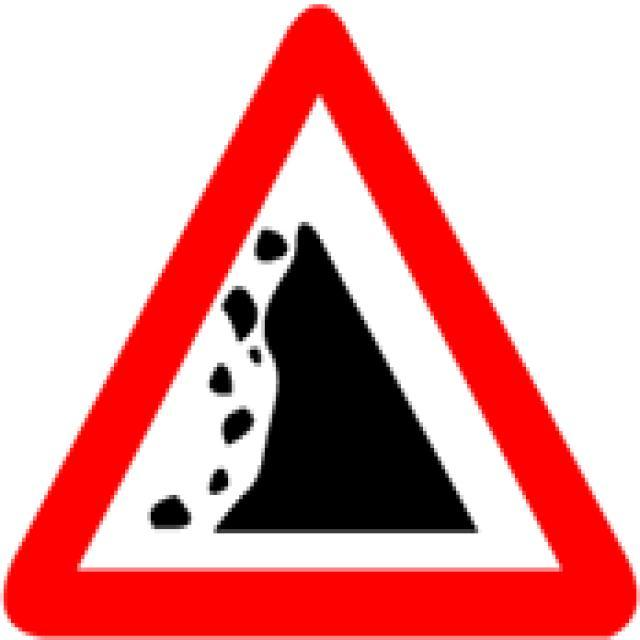falling rocks: (27, 19, 603, 612)
